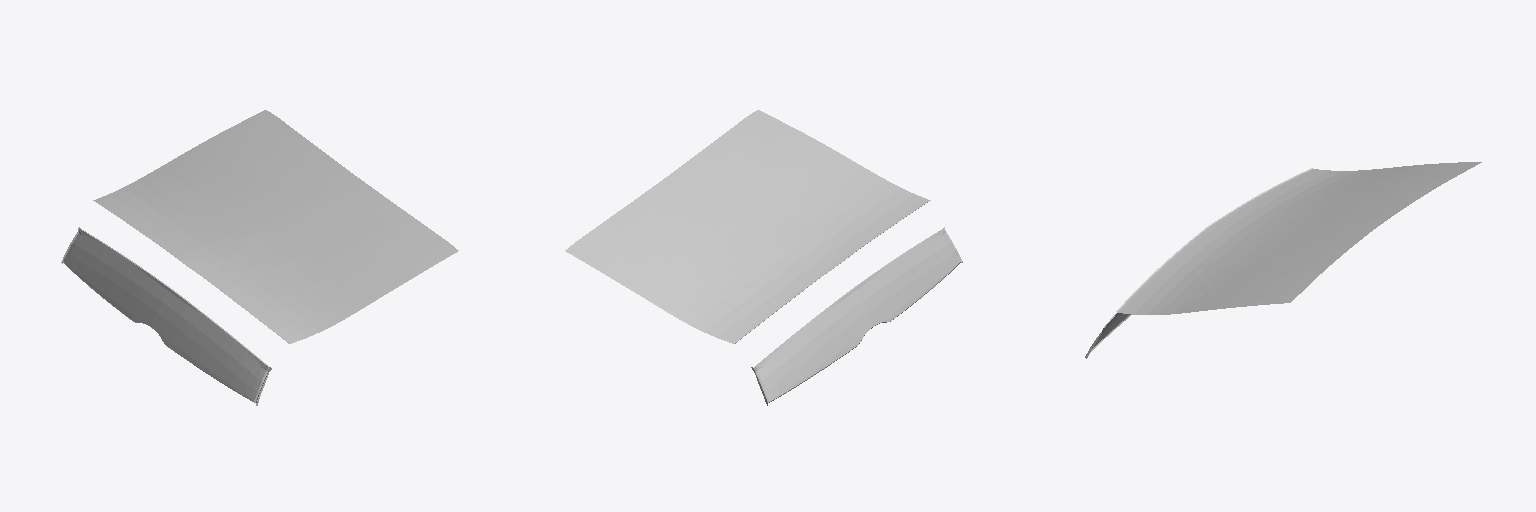
The picture shows the model from 3 angles: view 1: azimuth 30°, elevation 25°; view 2: azimuth 150°, elevation 25°; view 3: azimuth 330°, elevation 25°; orthographic projection.
Visible parts, largest first — view 1: Y191_13_464N_C_Y191_13_464N_C_1_DTaSI, Y191_13_464N_C_Y191_13_464N_C_3_DTaSI, Y191_13_464N_C_2_D_Y191_13_464N_C; view 2: Y191_13_464N_C_Y191_13_464N_C_1_DTaSI, Y191_13_464N_C_Y191_13_464N_C_3_DTaSI, Y191_13_464N_C_2_D_Y191_13_464N_C; view 3: Y191_13_464N_C_Y191_13_464N_C_1_DTaSI, Y191_13_464N_C_Y191_13_464N_C_3_DTaSI.
Boxes of the visible parts, <box> form: Y191_13_464N_C_Y191_13_464N_C_1_DTaSI: <box>68,119,441,395</box>; Y191_13_464N_C_Y191_13_464N_C_3_DTaSI: <box>64,110,458,401</box>; Y191_13_464N_C_2_D_Y191_13_464N_C: <box>61,227,271,405</box>; Y191_13_464N_C_Y191_13_464N_C_1_DTaSI: <box>582,119,955,395</box>; Y191_13_464N_C_Y191_13_464N_C_3_DTaSI: <box>565,110,959,401</box>; Y191_13_464N_C_2_D_Y191_13_464N_C: <box>751,227,962,405</box>; Y191_13_464N_C_Y191_13_464N_C_1_DTaSI: <box>1095,166,1464,344</box>; Y191_13_464N_C_Y191_13_464N_C_3_DTaSI: <box>1093,162,1481,347</box>.
Size of the model in its own units: 71.85 by 35.66 by 115.